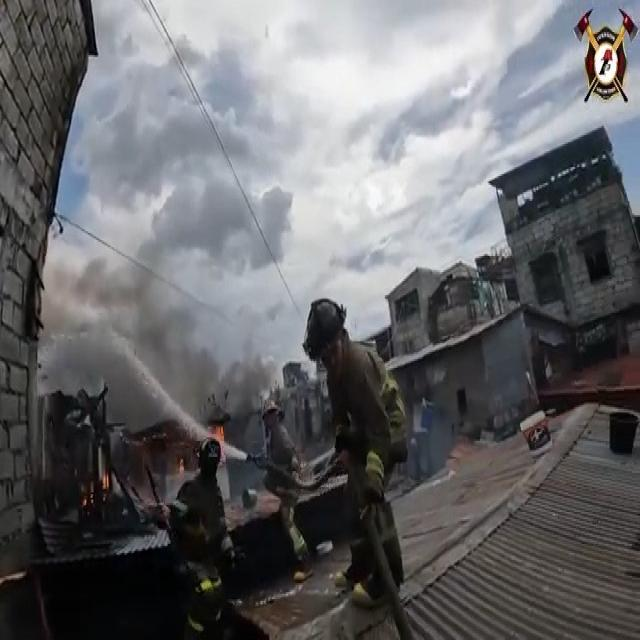Fire: (208, 422, 227, 459)
Smoke: (36, 243, 276, 438)
